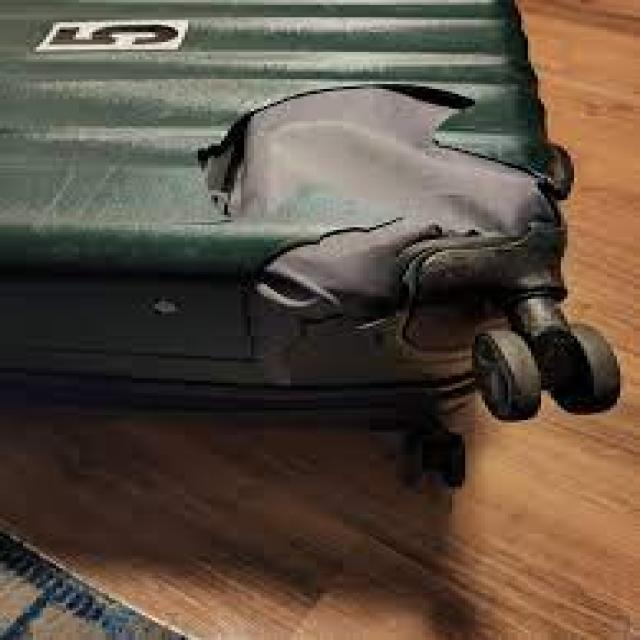Damage-bag: (199, 84, 571, 381)
